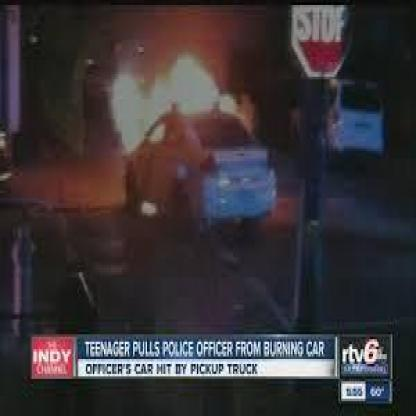fire: (113, 60, 241, 129)
